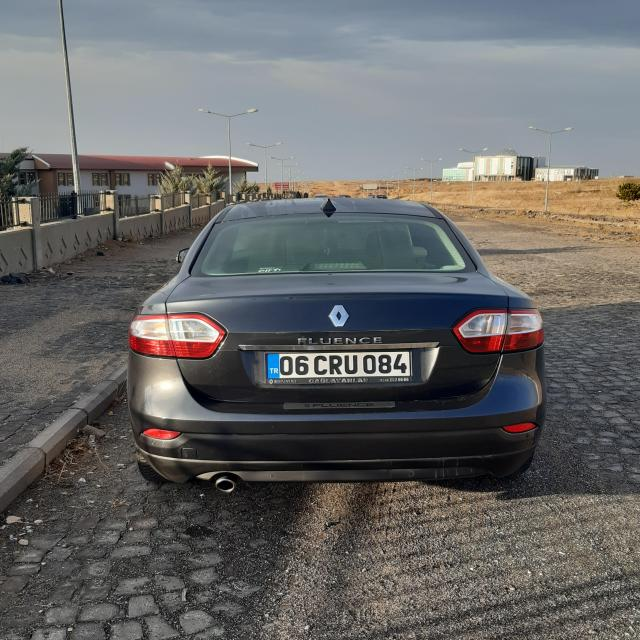license_plate: (265, 353, 409, 378)
